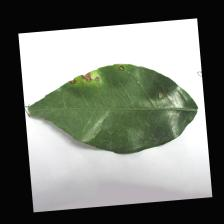canker: (62, 53, 179, 108)
